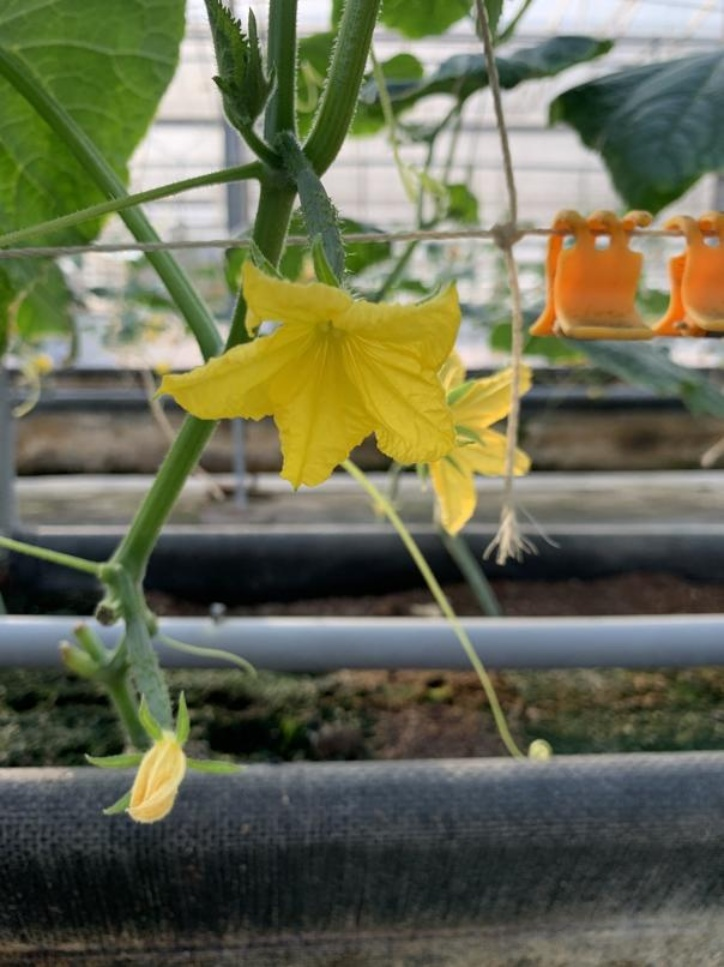flowering: (157, 148, 478, 492)
